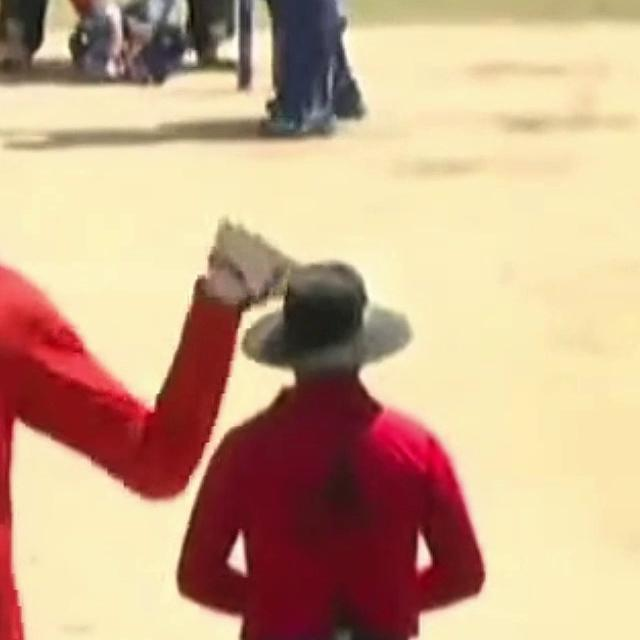umpire: (165, 264, 515, 640)
